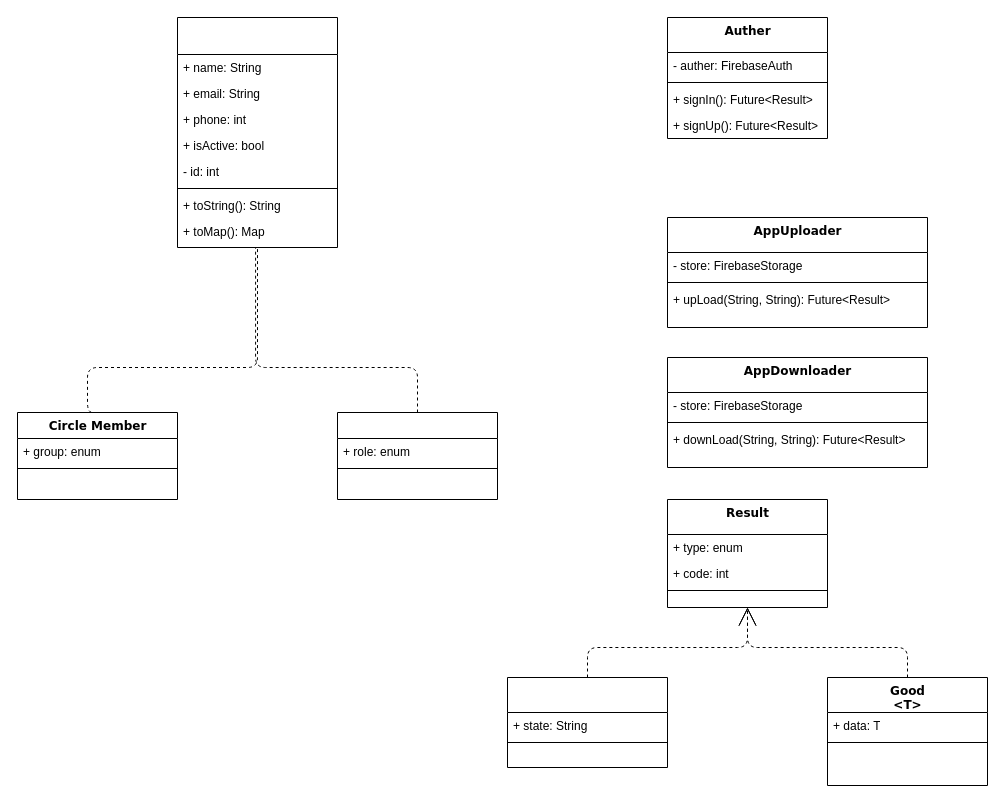
Image size: 1005x803. Some labels were removed from this diagram. Each missing label, with the box of its shape:
Adminstrator: (336, 412, 498, 500)
Bad: (506, 676, 668, 768)
User (abstract): (176, 16, 338, 248)
